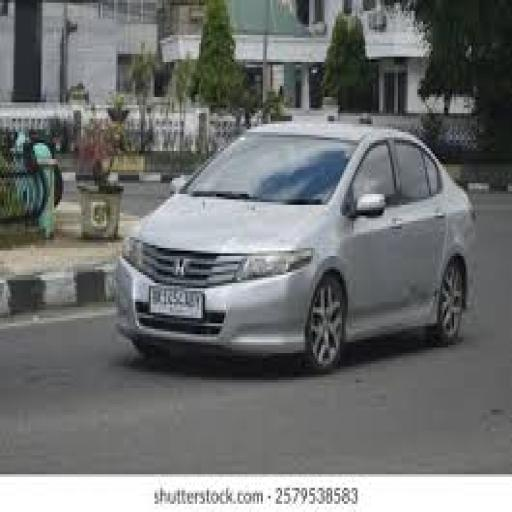License: (145, 280, 207, 322)
